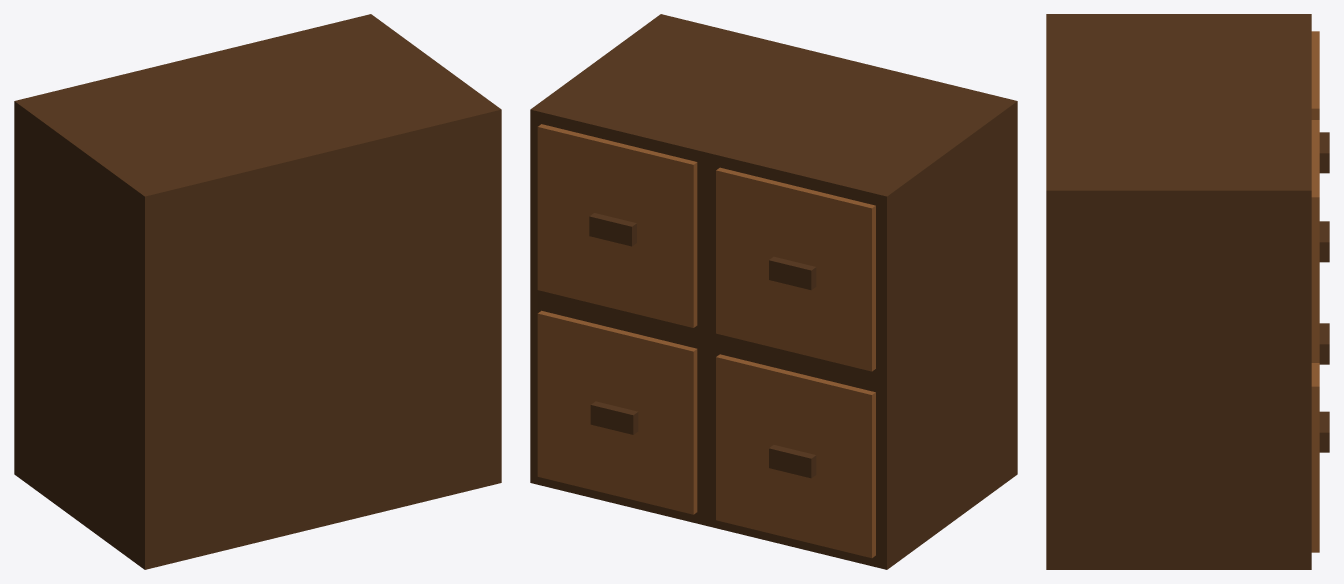
The model's file is Gavetas.fbx.
The picture shows the model from 3 angles, left to right: view 1: azimuth 30°, elevation 25°; view 2: azimuth 150°, elevation 25°; view 3: azimuth 270°, elevation 25°; orthographic projection.
Visible parts, largest first — view 1: Cube.002; view 2: Cube.002; view 3: Cube.002.
Part boxes in pixels (x1,y1,x2,y2): Cube.002: (14,14,501,569); Cube.002: (530,14,1017,569); Cube.002: (1046,14,1329,569).
Bounding box in the file's own units: 636 × 636 × 430.
